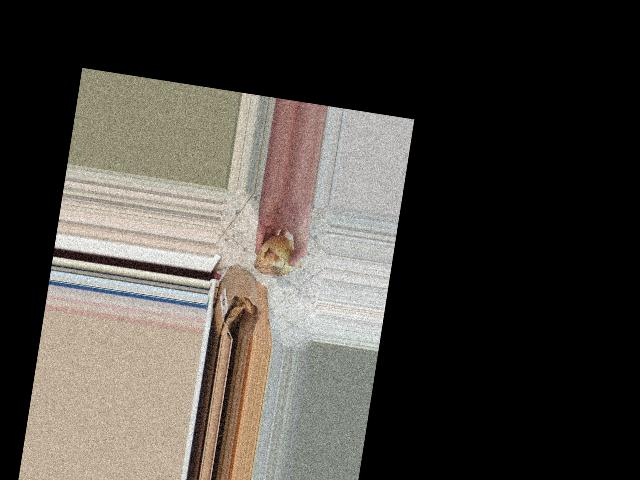onion: (252, 229, 304, 281)
